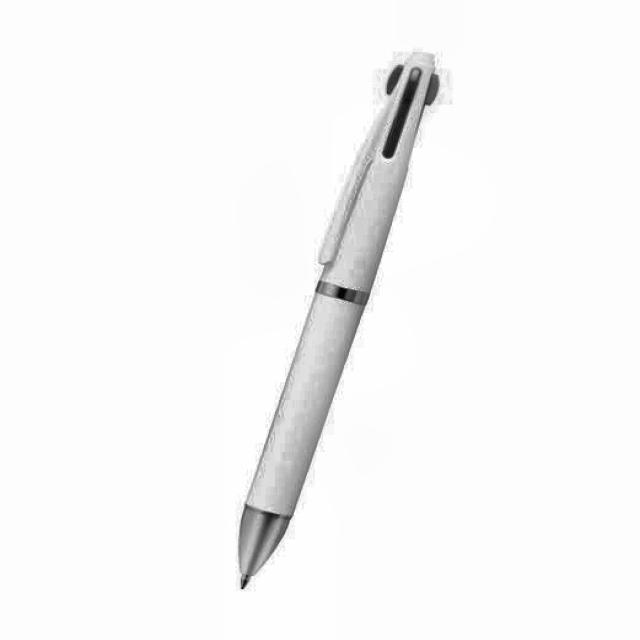Pen: (238, 46, 440, 596)
